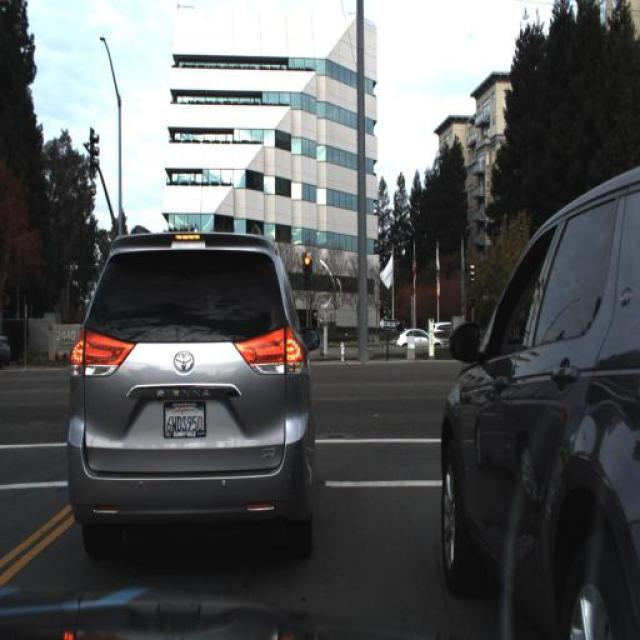car: (444, 170, 636, 634), (62, 232, 313, 570), (398, 329, 443, 356), (1, 323, 12, 373)
trafficLight-Green: (300, 248, 314, 290)
